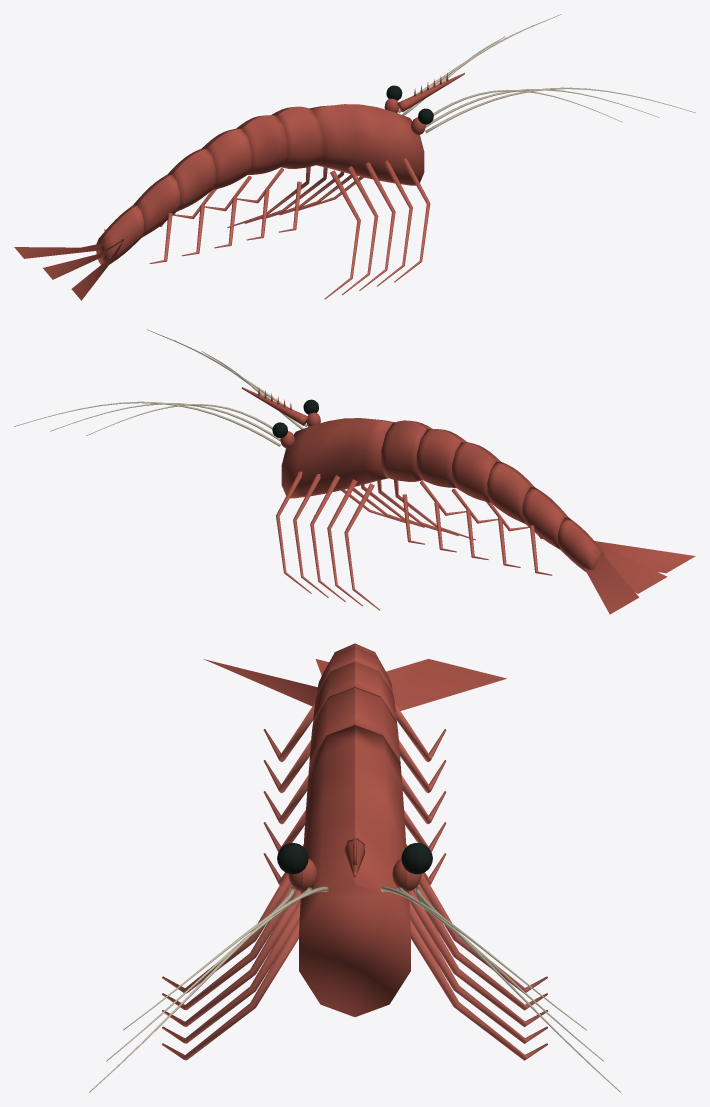
Rendered from cherryshrimp-mobile.glb.
The picture shows the model from 3 angles, top to bottom: view 1: azimuth 30°, elevation 25°; view 2: azimuth 150°, elevation 25°; view 3: azimuth 270°, elevation 25°; orthographic projection. The views are drawn at different scales.
Visible parts, largest first — view 1: carapace, pereiopod, antenna, pleopod, serrated-rostrum; view 2: carapace, pereiopod, antenna, pleopod, serrated-rostrum; view 3: carapace, pereiopod, pleopod, antenna, eye, eye-stalk.
Part boxes in pixels (x1,y1,x2,y2): carapace: (14, 104, 424, 300); pereiopod: (227, 158, 430, 299); antenna: (398, 14, 695, 133); pleopod: (104, 167, 301, 263); serrated-rostrum: (397, 73, 464, 111); carapace: (281, 418, 695, 614); pereiopod: (276, 471, 475, 610); antenna: (14, 329, 307, 446); pleopod: (402, 480, 552, 575); serrated-rostrum: (241, 387, 308, 425); carapace: (203, 643, 506, 1016); pereiopod: (162, 844, 547, 1060); pleopod: (263, 703, 446, 884); antenna: (89, 886, 620, 1092); eye: (277, 843, 432, 874); eye-stalk: (288, 859, 421, 891).
Bounding box in the file's own units: 1.18 × 0.2938 × 0.4707.
